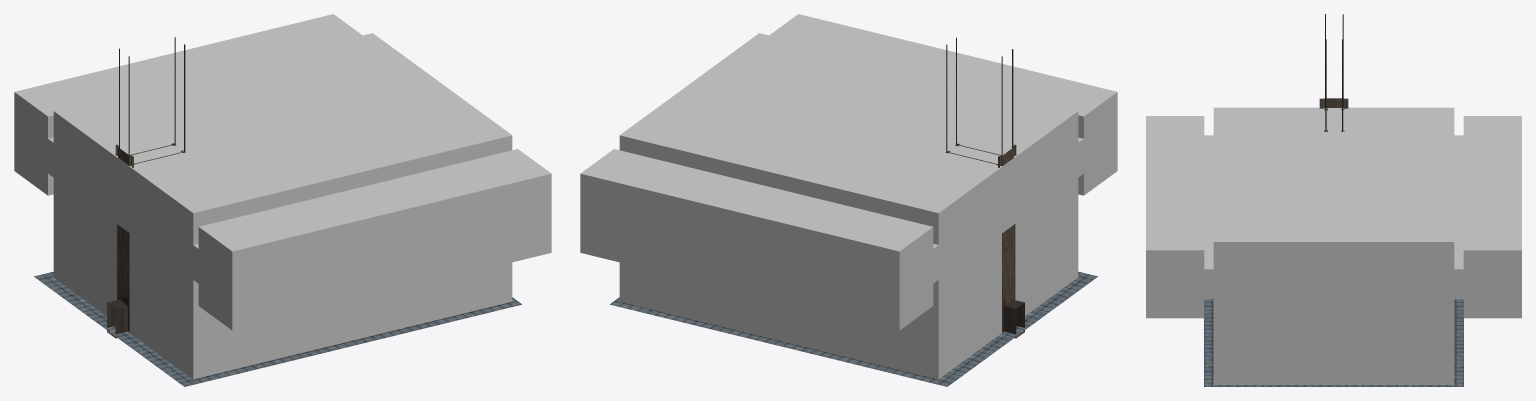
Rendered from room.fbx.
The picture shows the model from 3 angles, left to right: view 1: azimuth 30°, elevation 25°; view 2: azimuth 150°, elevation 25°; view 3: azimuth 270°, elevation 25°; orthographic projection. The views are drawn at different scales.
Parts seen in each view (by area): view 1: cube3, grid, polymsh_detached2; view 2: cube3, grid, polymsh_detached2; view 3: cube3, grid.
Boxes of the visible parts, left/top/right/bottom form: cube3: left=14, top=14, right=551, bottom=379; grid: left=34, top=271, right=521, bottom=386; polymsh_detached2: left=107, top=144, right=133, bottom=338; cube3: left=580, top=14, right=1117, bottom=379; grid: left=610, top=271, right=1097, bottom=386; polymsh_detached2: left=998, top=144, right=1024, bottom=338; cube3: left=1146, top=107, right=1521, bottom=384; grid: left=1204, top=299, right=1463, bottom=386.
Size of the model in its own units: 16.98 by 13.41 by 18.98.
